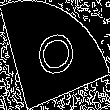O_W: (30, 26, 80, 84)
